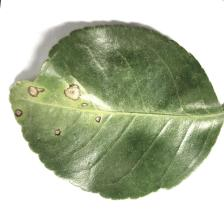canker: (10, 39, 109, 178)
